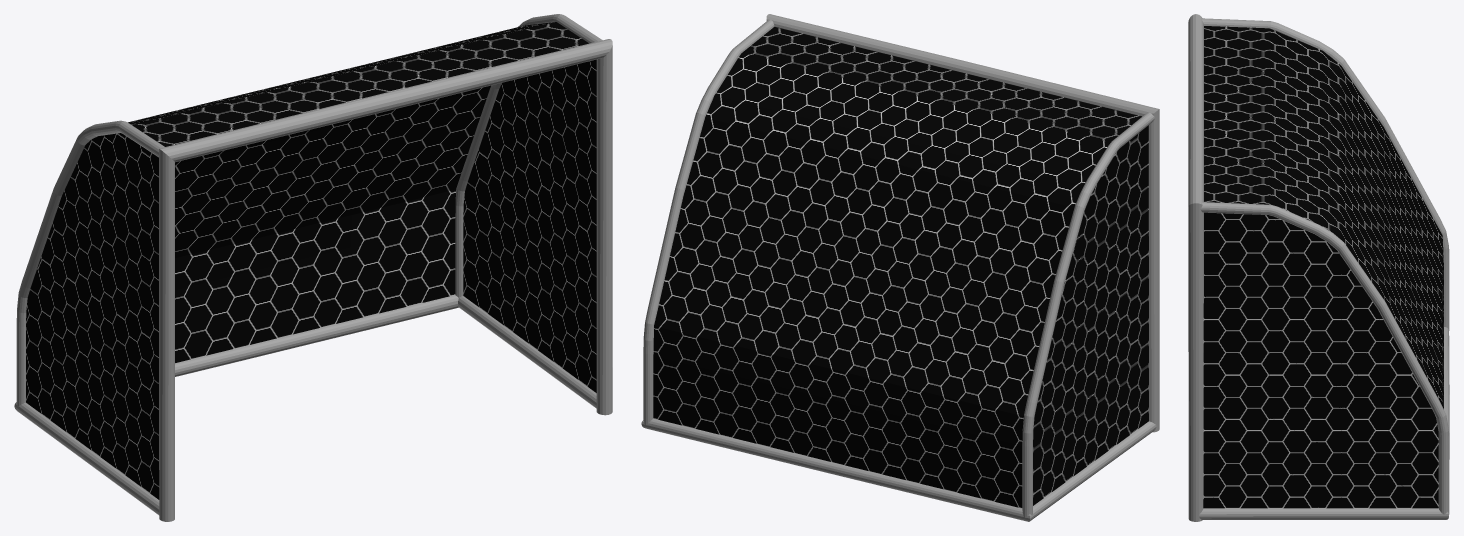
Rendered from football-goal.obj.
The picture shows the model from 3 angles, left to right: view 1: azimuth 30°, elevation 25°; view 2: azimuth 150°, elevation 25°; view 3: azimuth 270°, elevation 25°; orthographic projection. The views are drawn at different scales.
Parts seen in each view (by area): view 1: net_Cylinder.001, bae_Cylinder; view 2: net_Cylinder.001, bae_Cylinder; view 3: net_Cylinder.001, bae_Cylinder.
Part boxes in pixels (x1,y1,x2,y2): net_Cylinder.001: (26,22,596,499); bae_Cylinder: (14,14,612,521); net_Cylinder.001: (653,27,1148,508); bae_Cylinder: (641,14,1159,521); net_Cylinder.001: (1203,26,1443,508); bae_Cylinder: (1188,14,1449,521).
Bounding box in the file's own units: 152 × 120 × 88.98.
2 materials, 1 textured.
